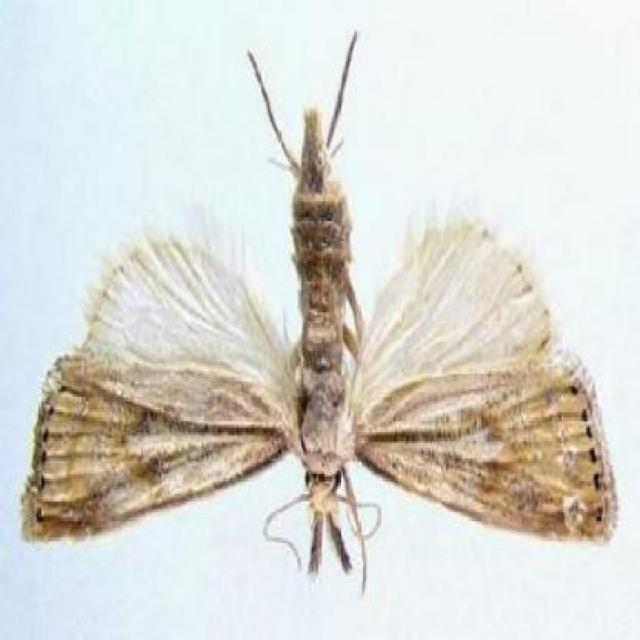stem-borer: (17, 28, 620, 590)
